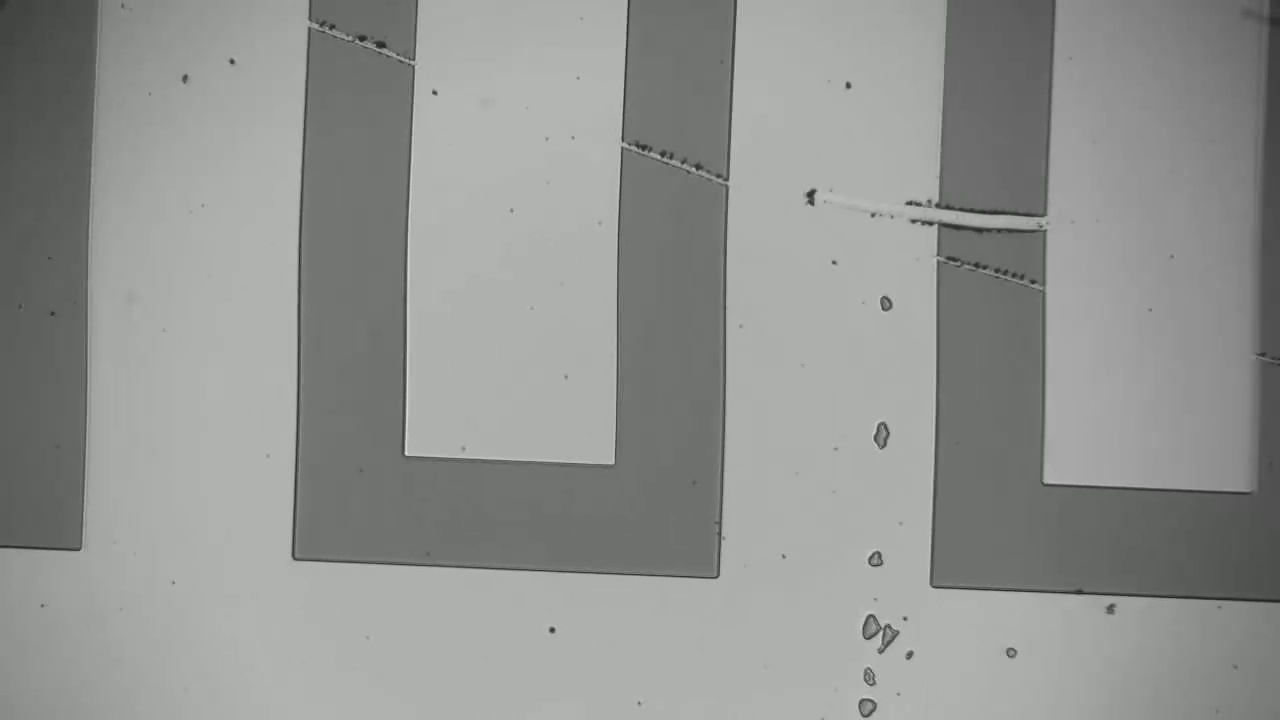Short_circuit: (901, 190, 1086, 248)
scratch: (318, 17, 409, 59), (626, 139, 718, 177), (940, 256, 1034, 287)
